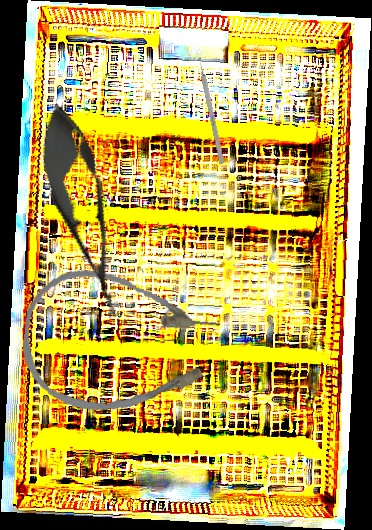Cannula: (16, 263, 225, 425)
Hook Surgical: (196, 54, 225, 165)
Micro Scissor: (25, 96, 142, 326)
